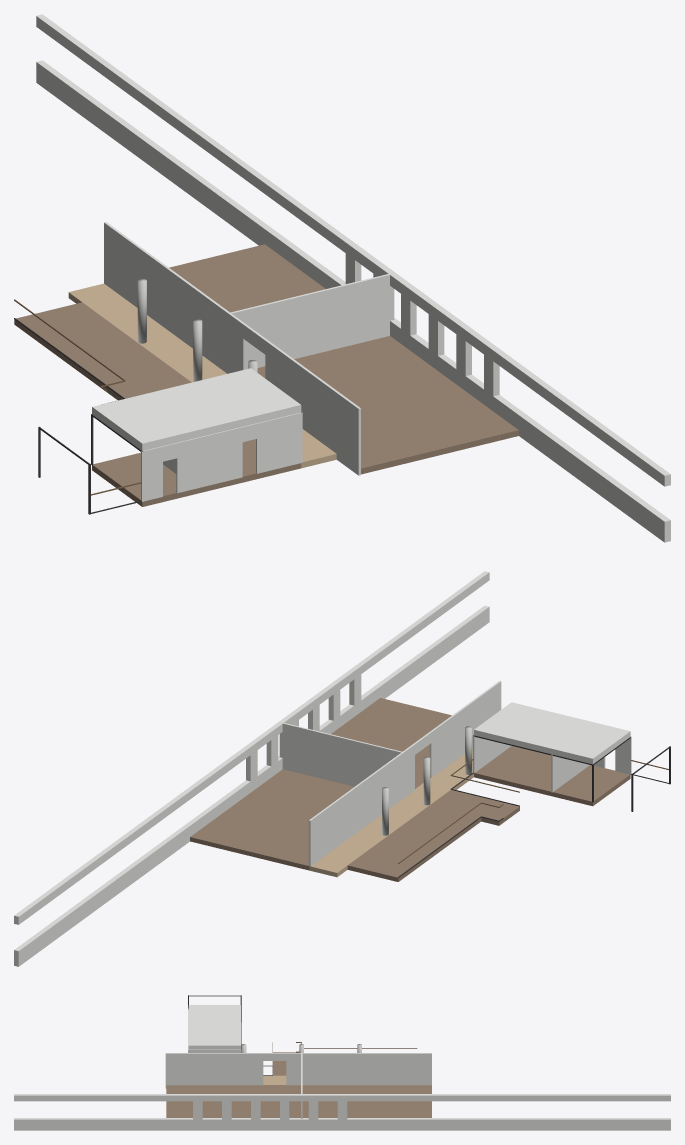
File: SM_Bygg_Helgasetr_P3_O_MS.fbx
The picture shows the model from 3 angles, top to bottom: view 1: azimuth 30°, elevation 25°; view 2: azimuth 150°, elevation 25°; view 3: azimuth 270°, elevation 25°; orthographic projection. The views are drawn at different scales.
Parts seen in each view (by area): view 1: SM_Bygg_Helgasetr_P3_O_MS; view 2: SM_Bygg_Helgasetr_P3_O_MS; view 3: SM_Bygg_Helgasetr_P3_O_MS.
Part boxes in pixels (box(x1,y1,x2,y2)): SM_Bygg_Helgasetr_P3_O_MS: box(14, 14, 670, 542); SM_Bygg_Helgasetr_P3_O_MS: box(14, 571, 670, 966); SM_Bygg_Helgasetr_P3_O_MS: box(14, 995, 670, 1130).
Size of the model in its own units: 68.17 by 26 by 4.
